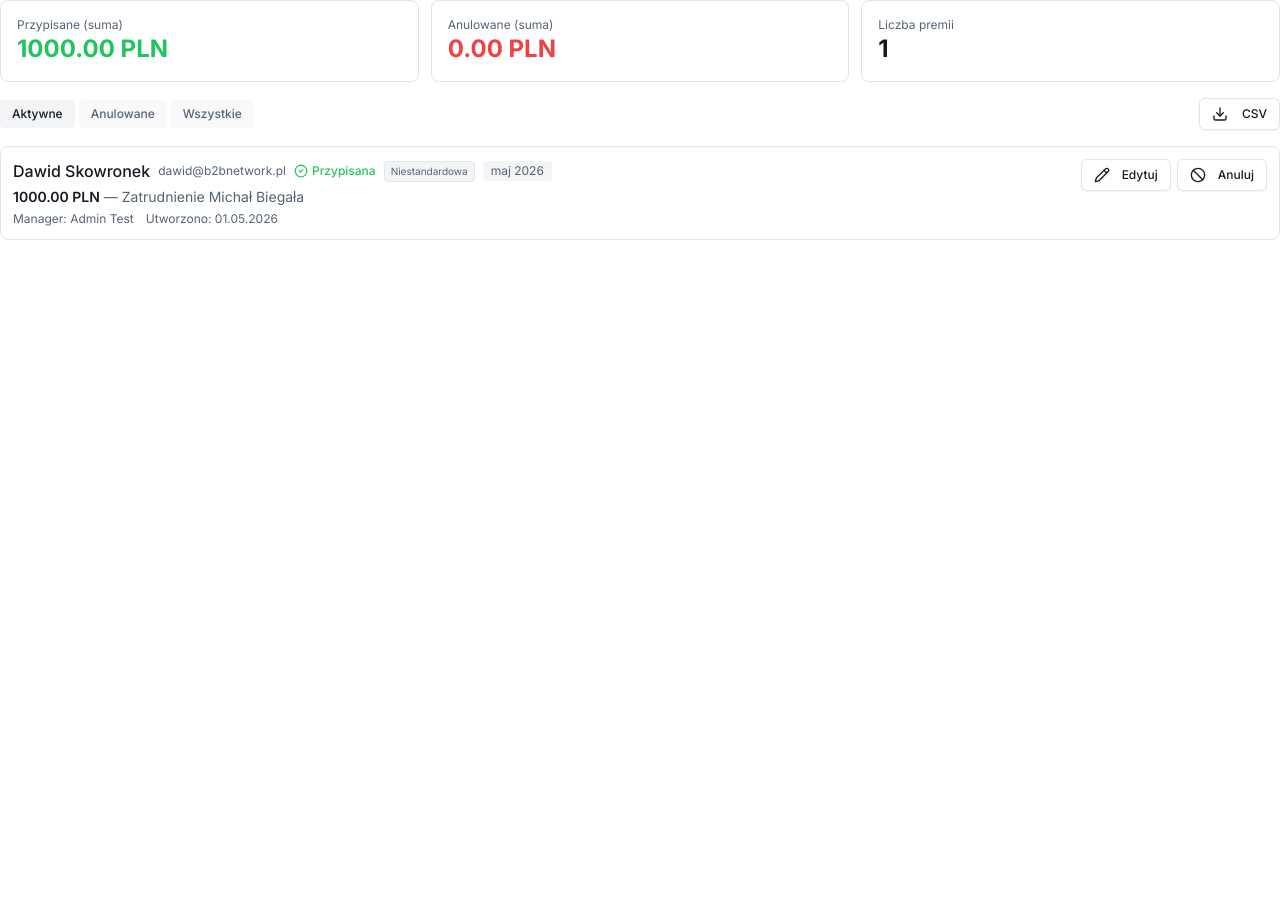
Test: <BonusesAdminClient /> edit flow › reflects the saved amount and reason in the list after editing
expect the text "1000.00 PLN" below "Przypisane (suma)" is shown: met, box [17,34,168,63]
expect the text "— Zatrudnienie Michał Biegała" is shown: met, box [100,188,304,205]
Click the button "Edytuj": (1126, 175) [1081,159,1171,191]
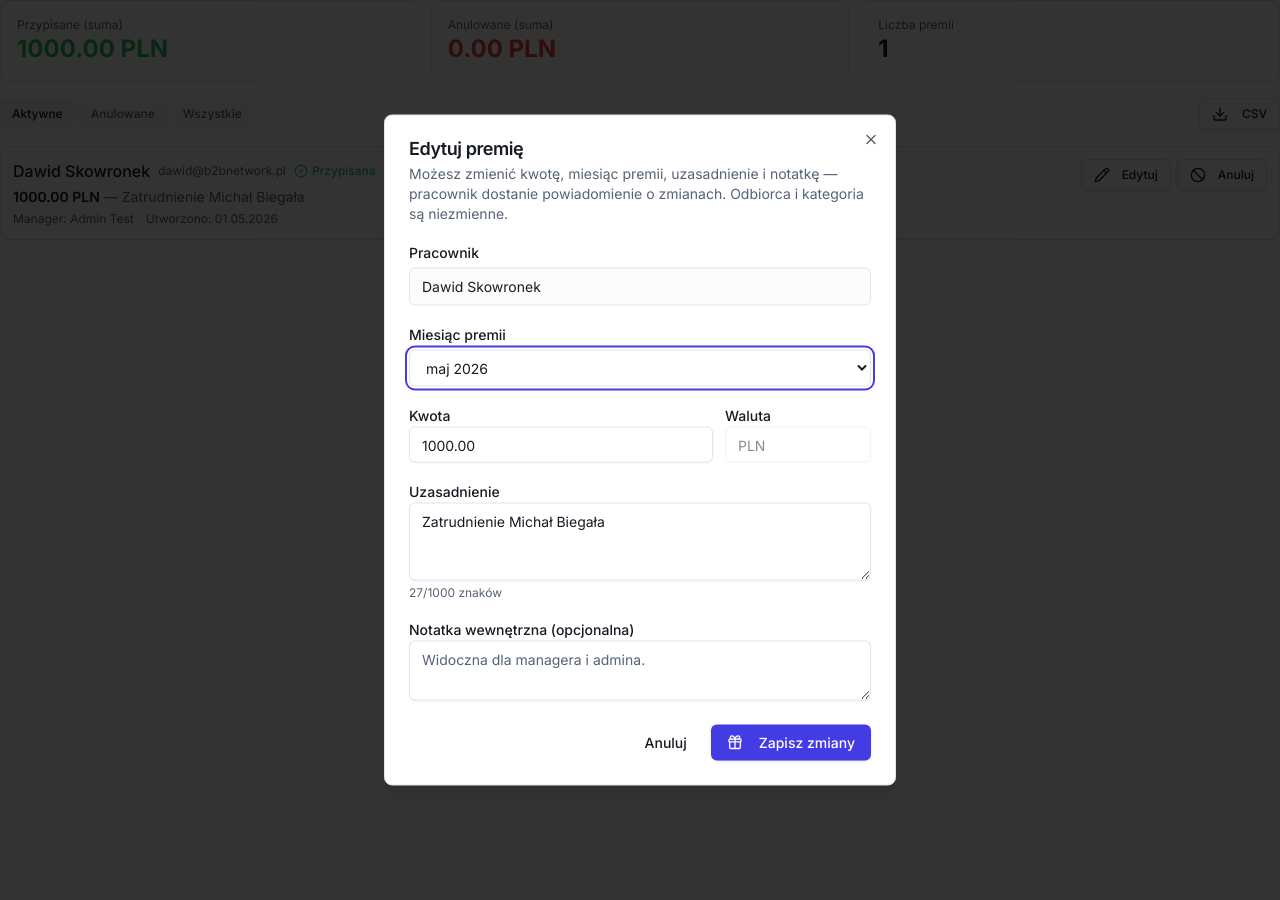
Replace the text in the number field labelled "Kwota" with "1500": (561, 444) [409,426,713,462]
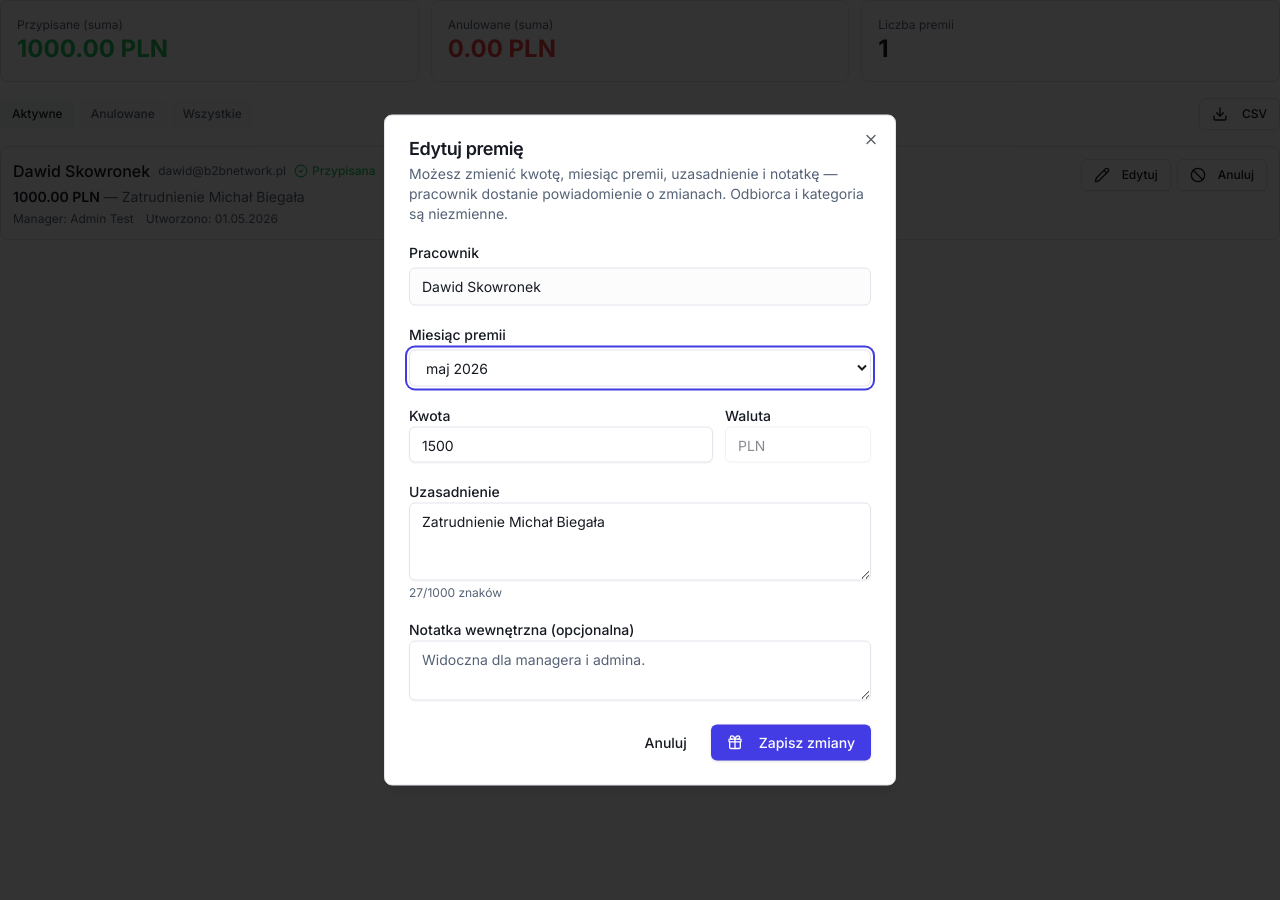
Replace the text in the text box labelled "Uzasadnienie" with "Nowe uzasadnienie premii": (640, 542) [409,502,871,580]
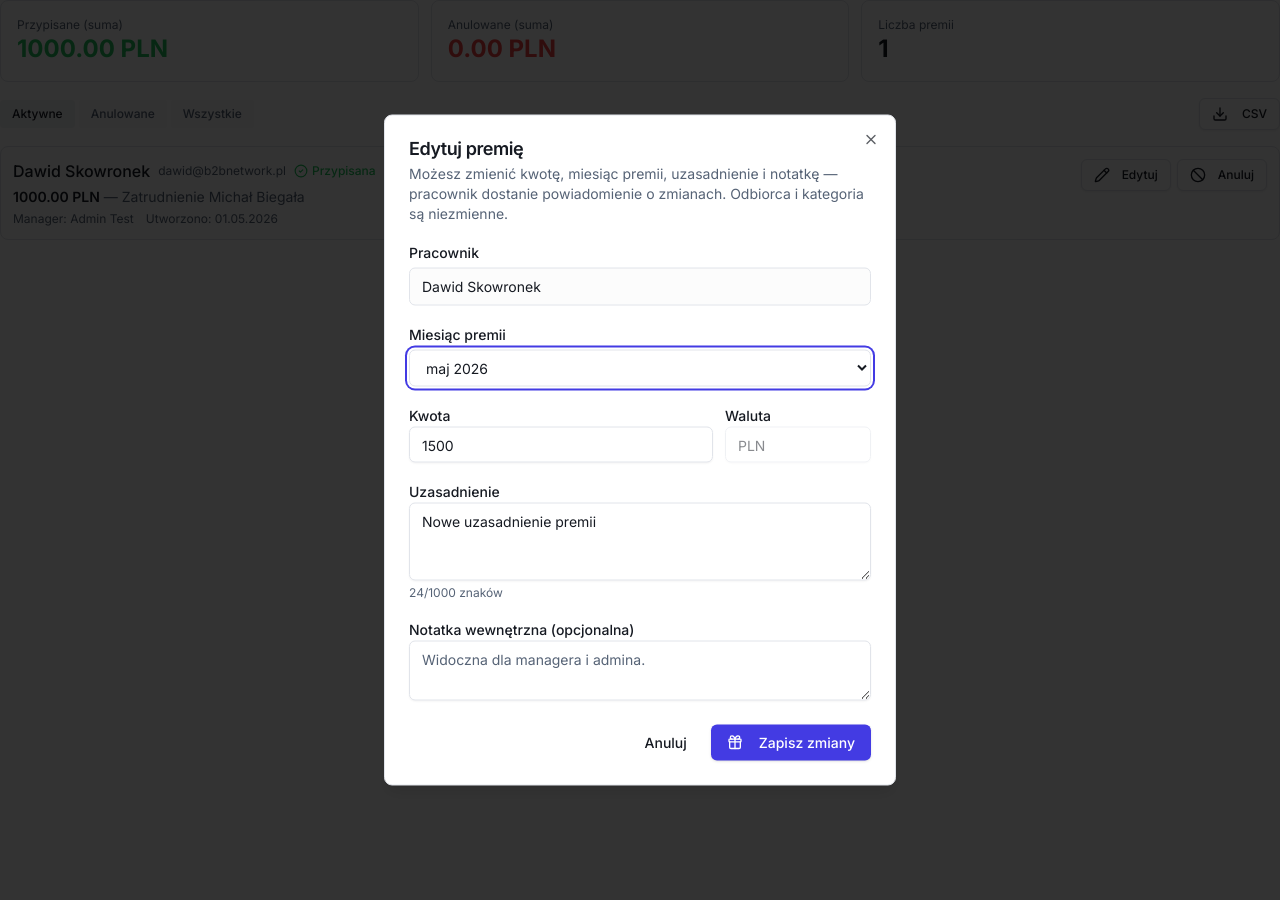
expect the form labelled "Kwota" is shown: met
Submit the form labelled "Kwota", box [409,240,871,760]
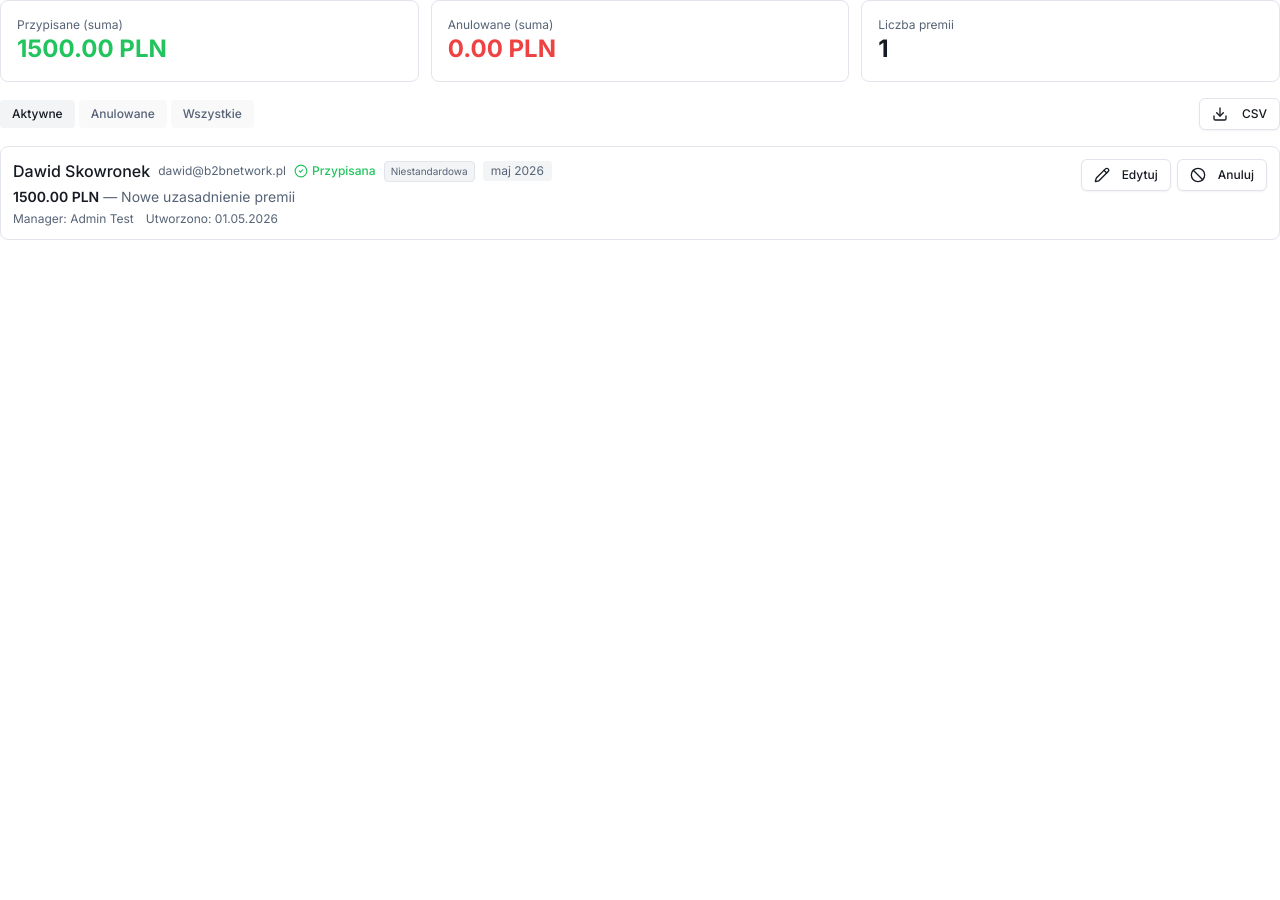
expect the text "1500.00 PLN" below "Przypisane (suma)" is shown: met, box [17,34,167,63]
expect the text "1000.00 PLN" is gone: met
expect the text "— Nowe uzasadnienie premii" is shown: met, box [99,188,295,205]
